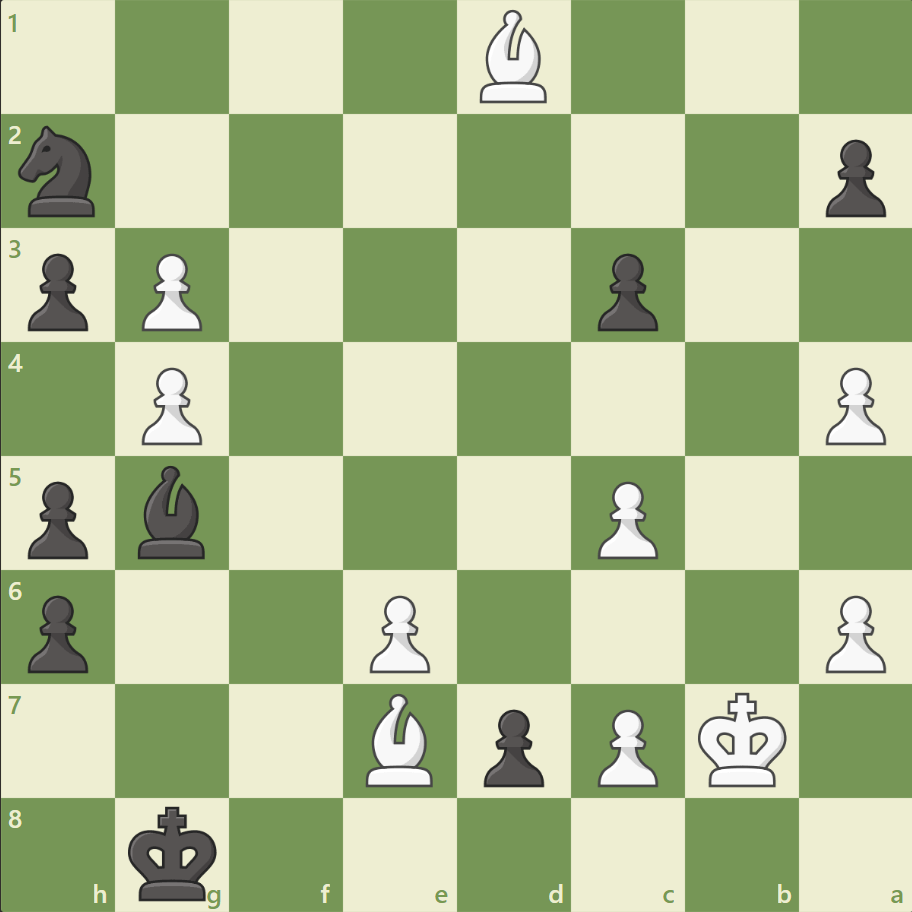B: (358, 687, 442, 790), (471, 6, 555, 109)
K: (692, 685, 792, 793)
P: (133, 359, 208, 450), (133, 246, 208, 337), (588, 700, 662, 791), (815, 586, 889, 677), (361, 586, 435, 677), (588, 473, 662, 564), (815, 359, 889, 450)
b: (131, 460, 215, 563)
k: (124, 798, 224, 906)
n: (11, 121, 108, 223)
p: (474, 700, 549, 791), (20, 586, 95, 677), (20, 473, 95, 564), (20, 246, 95, 337), (588, 246, 662, 337), (815, 132, 889, 223)
